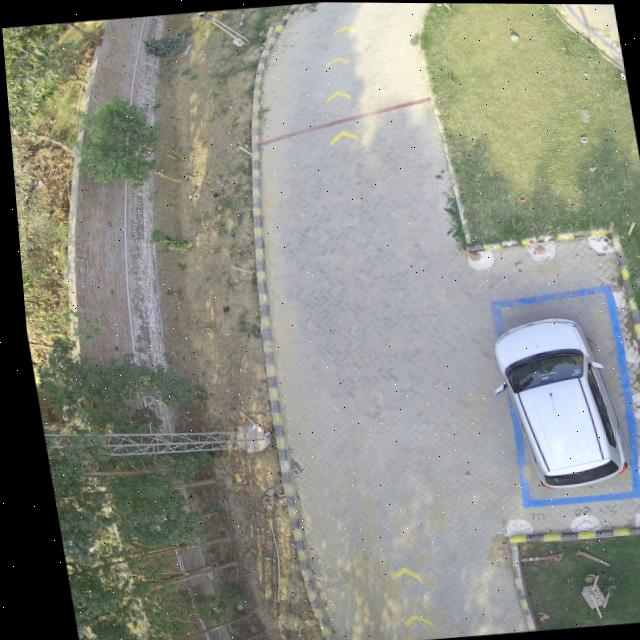car: (486, 314, 620, 489)
